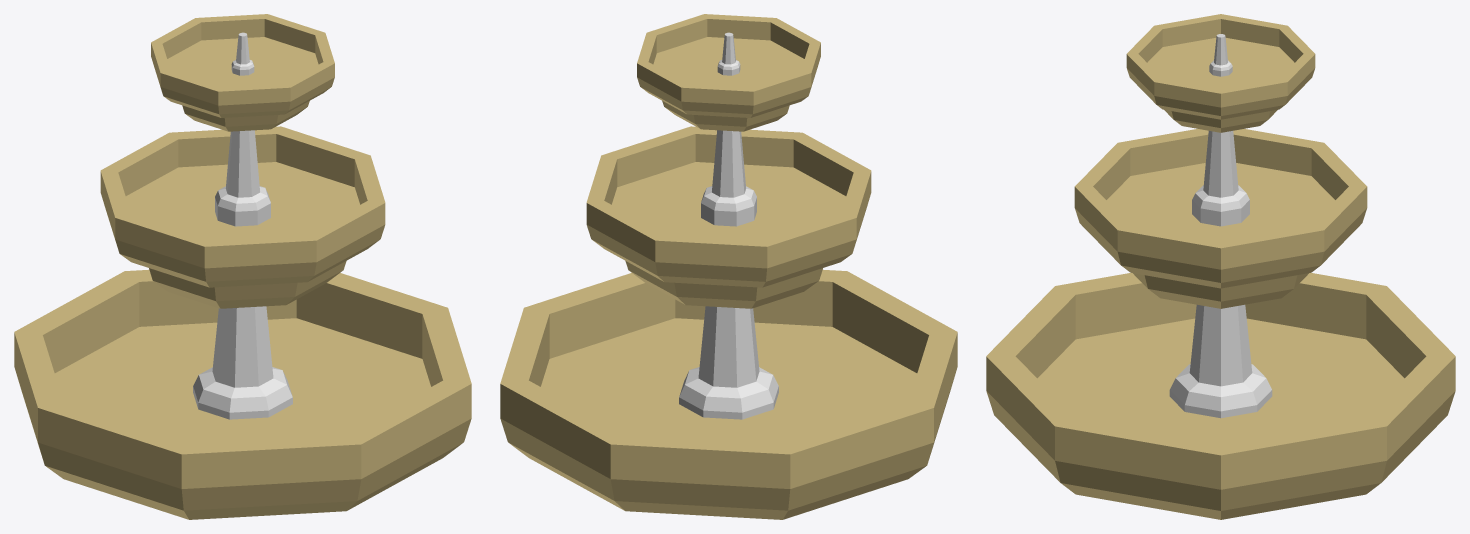
File: 분수대테스트10.fbx
3 renders of one model, left to right at view 1: azimuth 30°, elevation 25°; view 2: azimuth 150°, elevation 25°; view 3: azimuth 270°, elevation 25°, orthographic.
Parts seen in each view (by area): view 1: Cylinder, Cylinder.001; view 2: Cylinder, Cylinder.001; view 3: Cylinder, Cylinder.001.
Boxes of the visible parts, box(x1,y1,x2,y2) form: Cylinder: box(14, 14, 471, 519); Cylinder.001: box(193, 32, 292, 419); Cylinder: box(500, 14, 957, 519); Cylinder.001: box(679, 32, 778, 419); Cylinder: box(986, 14, 1455, 519); Cylinder.001: box(1169, 34, 1272, 418).
Size of the model in its own units: 35.69 by 33.88 by 35.69.
